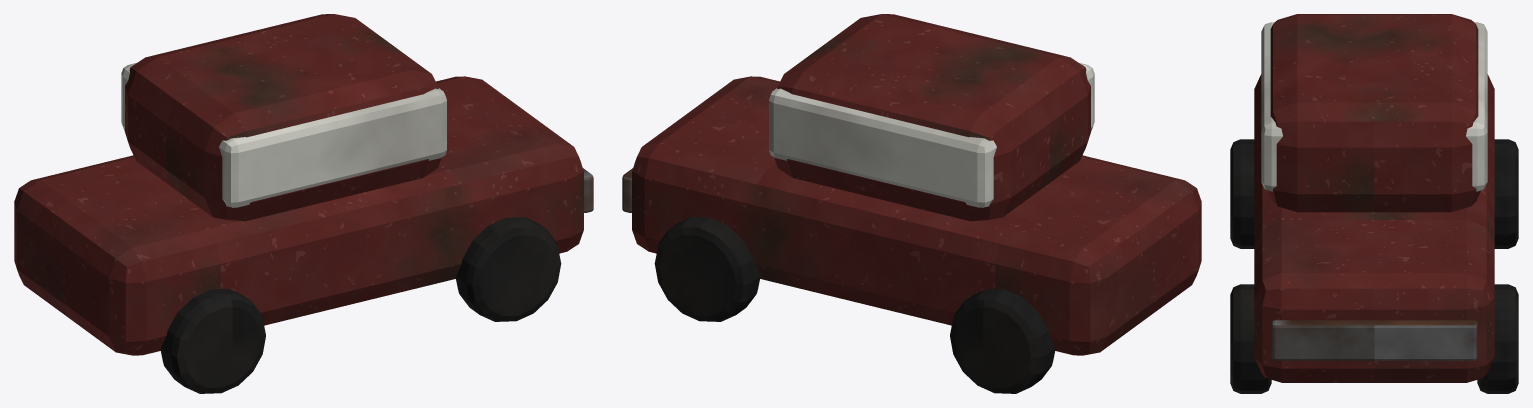
The model's file is T10_toy_car_v1.glb.
3 views of the same model, side by side, from view 1: azimuth 30°, elevation 25°; view 2: azimuth 150°, elevation 25°; view 3: azimuth 270°, elevation 25° (orthographic).
Parts seen in each view (by area): view 1: T10_toy_car_v1; view 2: T10_toy_car_v1; view 3: T10_toy_car_v1.
Boxes of the visible parts, x1,y1,x2,y2 form: T10_toy_car_v1: (14,14,593,393); T10_toy_car_v1: (622,14,1201,393); T10_toy_car_v1: (1230,14,1518,393).
Size of the model in its own units: 0.2 by 0.0988 by 0.1031.
4 materials, 4 textured.
